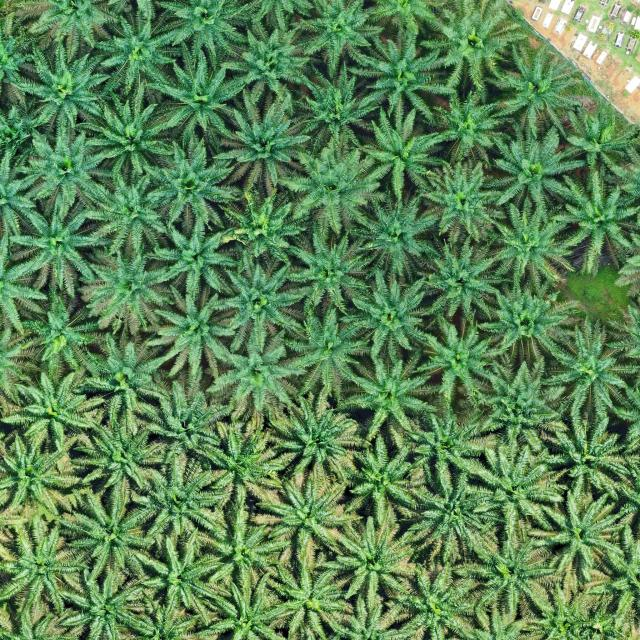Tree: (200, 310, 312, 421), (1, 286, 115, 392), (250, 476, 358, 583), (206, 92, 314, 198), (343, 21, 459, 119), (520, 489, 628, 589), (3, 36, 114, 133), (487, 37, 589, 142), (488, 118, 590, 223), (335, 350, 437, 452), (418, 1, 533, 91), (134, 137, 236, 237), (5, 195, 104, 298), (467, 354, 572, 451), (390, 468, 492, 567), (542, 314, 638, 419), (452, 520, 557, 615), (52, 487, 156, 582), (277, 143, 383, 236), (213, 8, 313, 106), (139, 526, 236, 627), (263, 388, 365, 484), (157, 45, 250, 150), (548, 170, 640, 276), (476, 278, 582, 370), (315, 514, 421, 606), (539, 404, 634, 506), (272, 225, 373, 320), (144, 283, 238, 382), (411, 314, 512, 406), (283, 299, 373, 402), (212, 258, 308, 354), (198, 414, 289, 515), (137, 375, 237, 465), (80, 90, 174, 185), (471, 439, 565, 533), (410, 234, 508, 324), (147, 211, 241, 302), (348, 188, 438, 283), (70, 406, 168, 493), (354, 104, 444, 196), (79, 248, 171, 338), (416, 159, 509, 248), (16, 124, 112, 210), (483, 200, 579, 286), (87, 4, 177, 95), (197, 507, 295, 590), (82, 332, 169, 425), (80, 173, 172, 260), (287, 0, 388, 79), (0, 370, 98, 450), (294, 63, 379, 154), (0, 427, 81, 522), (142, 450, 228, 539), (338, 273, 429, 357), (216, 188, 307, 270), (59, 567, 157, 640), (427, 90, 514, 172), (0, 522, 81, 610), (395, 561, 483, 640), (346, 442, 423, 526), (152, 0, 245, 68), (271, 564, 354, 640), (199, 571, 289, 640), (407, 400, 483, 480), (561, 106, 640, 174)
